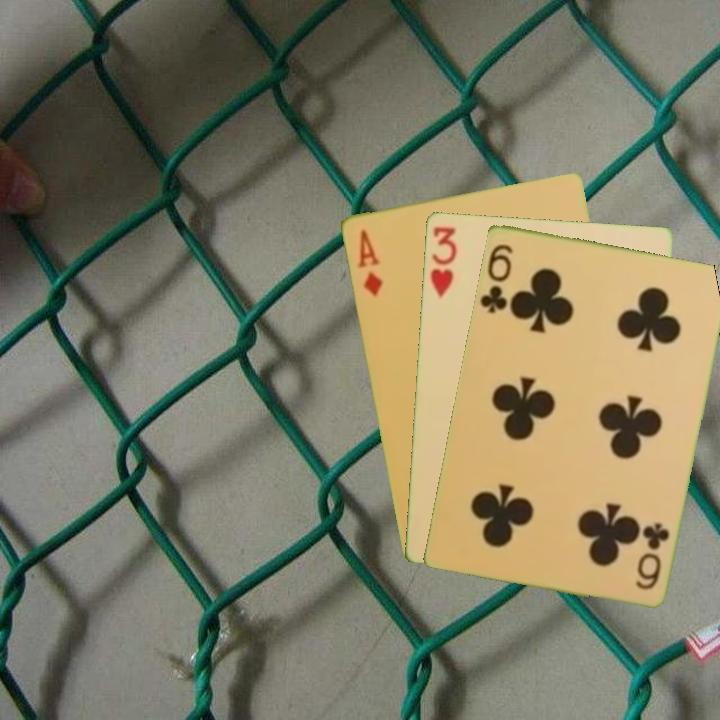3h: (426, 222, 459, 300)
6c: (632, 518, 672, 593), (476, 240, 515, 316)
Ad: (354, 226, 385, 299)
